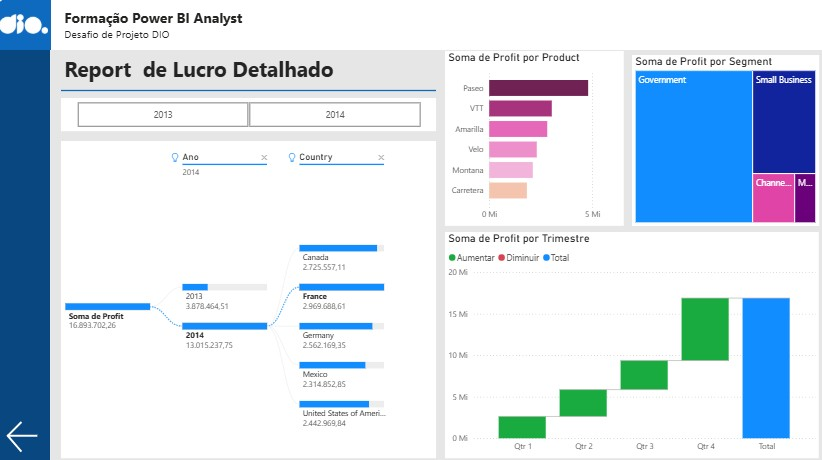

Layout of this report page (visuals, bound fields, positions):
{"tool":"powerbi","page":{"name":"Página 2","canvas":[1280,720],"ordinal":1},"visuals":[{"type":"shape","box":[0,0,1280,720],"z":0},{"type":"shape","box":[0,0,1280,80],"z":1000},{"type":"textbox","box":[100,80.8,520,61.5],"z":1000,"group":"g1"},{"type":"textbox","box":[100,10.8,367.7,69.2],"z":2000},{"type":"shape","box":[0,0,84.6,720],"z":3000},{"type":"shape","box":[0,0,84.6,80],"z":4000},{"type":"image","box":[0,0,84.6,80],"z":5000},{"type":"actionButton","box":[10.8,643.1,60,64.6],"z":6000},{"type":"group","id":"g1","title":"Title report","box":[100,80.8,520,61.5],"z":7000},{"type":"shape","box":[100,80,576.9,124.6],"z":8000},{"type":"decompositionTreeVisual","fields":{"Analyze":["Sum(financials.Profit)"],"ExplainBy":["financials.Date.Variation.Hierarquia de datas.Ano","financials.Country"]},"box":[100,220,576.9,487.7],"z":9000},{"type":"waterfallChart","fields":{"Y":["Sum(financials.Profit)"],"Category":["financials.Date.Variation.Hierarquia de datas.Trimestre"]},"box":[690.8,360,575.4,347.7],"z":10000},{"type":"treemap","fields":{"Values":["Sum(financials.Profit)"],"Group":["financials.Segment"]},"box":[978.5,87.7,287.7,263.1],"z":11000},{"type":"clusteredBarChart","fields":{"Category":["financials.Product"],"Y":["Sum(financials.Profit)"]},"box":[690.8,81.5,275.4,269.2],"z":12000},{"type":"slicer","fields":{"Values":["financials.Date.Variation.Hierarquia de datas.Ano"]},"box":[100,153.8,576.9,50.8],"z":13000}]}

Visuals, with their boxes on the page's 1280x720 design canvas (x1, y1, x2, y2). These are canvas units, not pixel positions in the 822x460 screenshot, which may show the page scaled, cropped or inside an application window:
shape: x1=0, y1=0, x2=1280, y2=720
shape: x1=0, y1=0, x2=1280, y2=80
textbox: x1=100, y1=81, x2=620, y2=142
textbox: x1=100, y1=11, x2=468, y2=80
shape: x1=0, y1=0, x2=85, y2=720
shape: x1=0, y1=0, x2=85, y2=80
image: x1=0, y1=0, x2=85, y2=80
actionButton: x1=11, y1=643, x2=71, y2=708
"Title report" group: x1=100, y1=81, x2=620, y2=142
shape: x1=100, y1=80, x2=677, y2=205
decompositionTreeVisual - Sum(financials.Profit) x financials.Date.Variation.Hierarquia de datas.Ano: x1=100, y1=220, x2=677, y2=708
waterfallChart - Sum(financials.Profit) x financials.Date.Variation.Hierarquia de datas.Trimestre: x1=691, y1=360, x2=1266, y2=708
treemap - Sum(financials.Profit) x financials.Segment: x1=978, y1=88, x2=1266, y2=351
clusteredBarChart - financials.Product x Sum(financials.Profit): x1=691, y1=82, x2=966, y2=351
slicer - financials.Date.Variation.Hierarquia de datas.Ano: x1=100, y1=154, x2=677, y2=205
